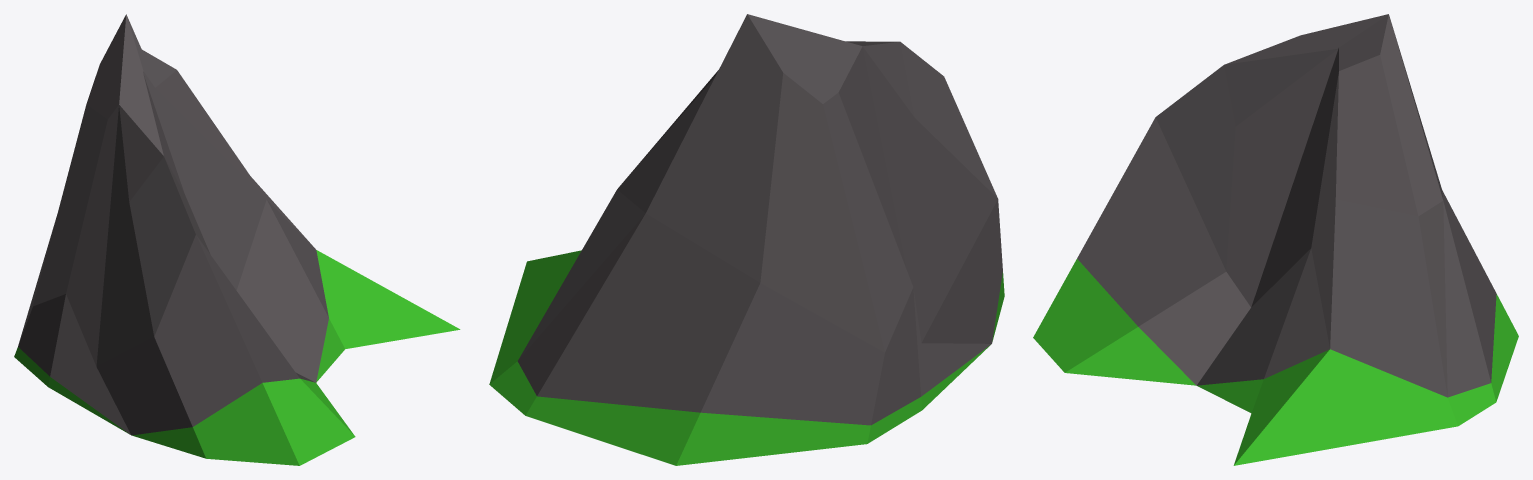
The model's file is spike3.fbx.
3 renders of one model, left to right at view 1: azimuth 30°, elevation 25°; view 2: azimuth 150°, elevation 25°; view 3: azimuth 270°, elevation 25°, orthographic. The views are drawn at different scales.
Parts seen in each view (by area): view 1: Circle.007; view 2: Circle.007; view 3: Circle.007.
Boxes of the visible parts, box(x1,y1,x2,y2) form: Circle.007: box(14, 14, 460, 465); Circle.007: box(489, 14, 1004, 465); Circle.007: box(1033, 14, 1518, 465).
Bounding box in the file's own units: 1037 × 867 × 1174.
